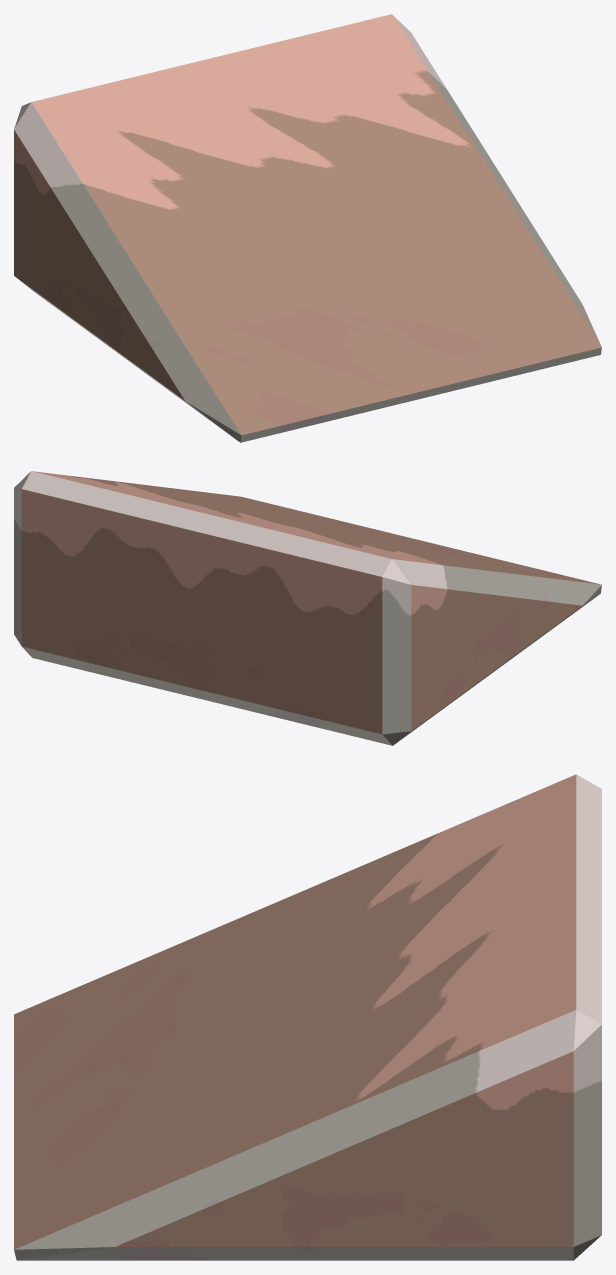
Rendered from R4B_HalfWedge_LOD1.glb.
3 renders of one model, top to bottom at view 1: azimuth 30°, elevation 25°; view 2: azimuth 150°, elevation 25°; view 3: azimuth 270°, elevation 25°, orthographic. The views are drawn at different scales.
Parts seen in each view (by area): view 1: R4B_HalfWedge_LOD1; view 2: R4B_HalfWedge_LOD1; view 3: R4B_HalfWedge_LOD1.
Boxes of the visible parts, bbox=[...] form: R4B_HalfWedge_LOD1: bbox=[14, 14, 601, 442]; R4B_HalfWedge_LOD1: bbox=[14, 471, 601, 745]; R4B_HalfWedge_LOD1: bbox=[14, 774, 601, 1260].
Bounding box in the file's own units: 0.52 × 0.2348 × 0.4983.
Materials: 2 (2 with a texture image).
